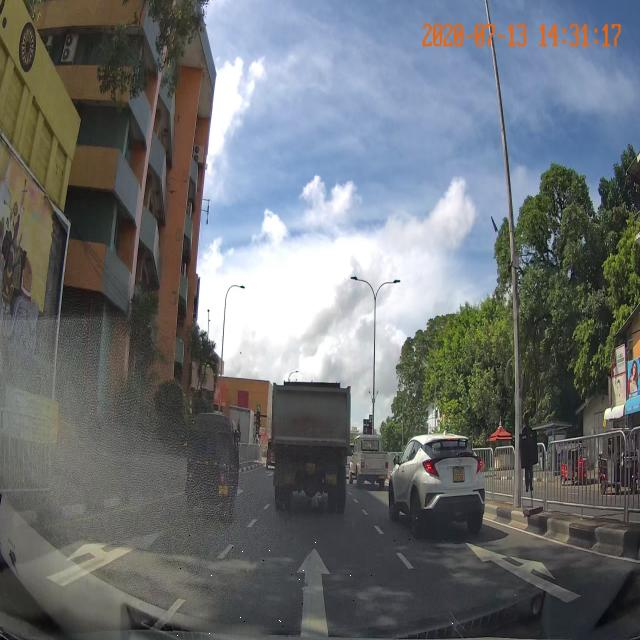diamond: (174, 536, 453, 636)
